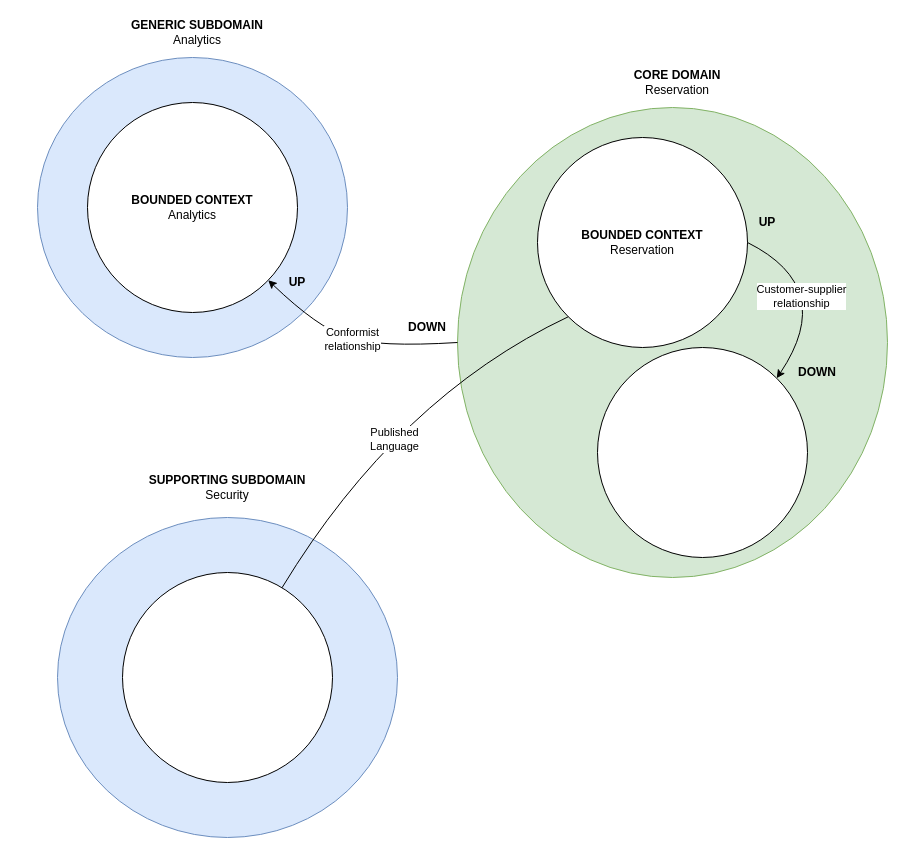
This 914x855 diagram has some shape labels left out. Here are the shapes that lost their labels. From the top down, the centre of each, then its label:
At [702,452]: "BOUNDED CONTEXT Display".
At [227,677]: "BOUNDED CONTEXT VerificationCode".
